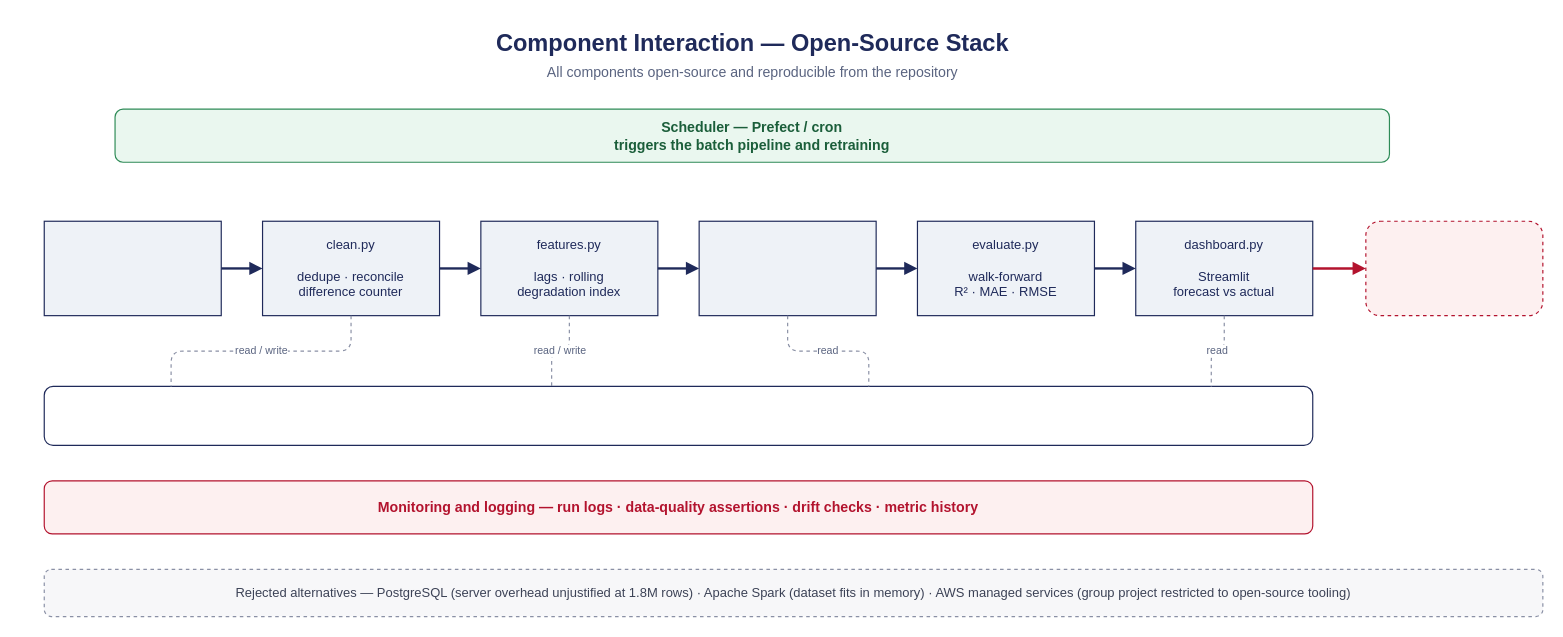
Some shapes in this 1563 by 637 pixel diagram are drawn without their labels. Each missing label, with the box of its shape:
ingest.py fetch · validate schema check: (43, 220, 221, 316)
Site operator battery dispatch decision: (1365, 220, 1543, 316)
Storage layer — Parquet files queried via DuckDB · raw / cleaned / feature zones: (43, 385, 1313, 445)
train.py LightGBM baseline + deep benchmark: (698, 220, 876, 316)
